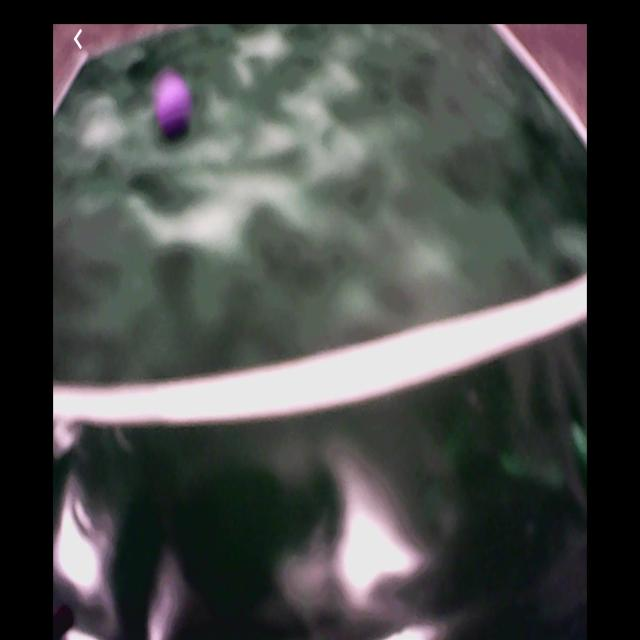ball: (156, 72, 190, 138)
